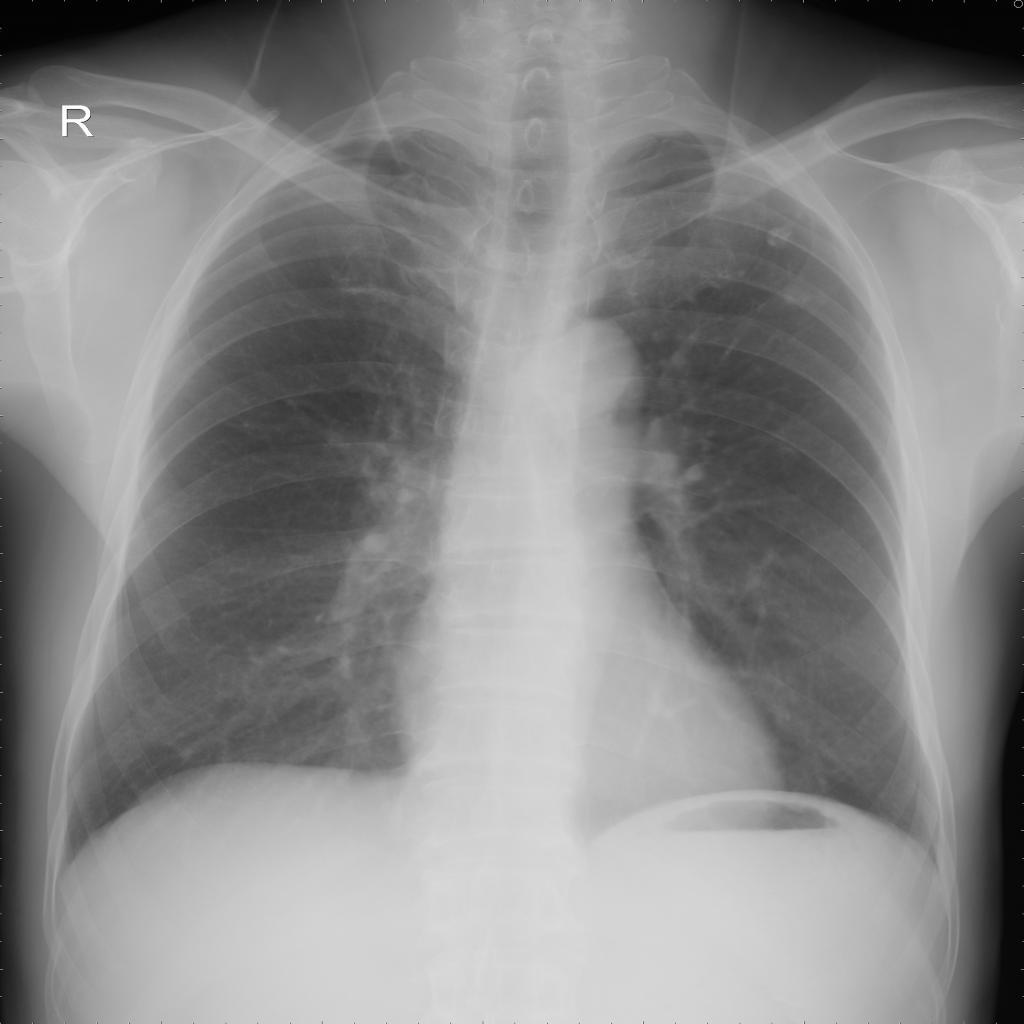Nodule: (783, 278, 812, 307), (764, 226, 795, 249)
